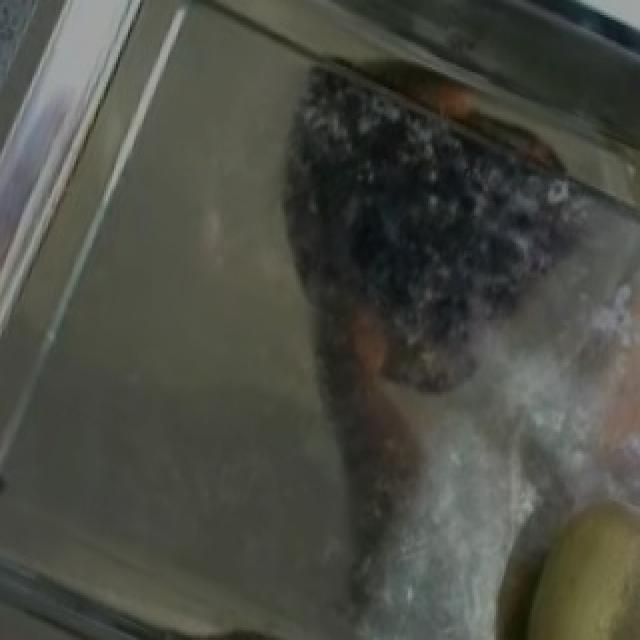Fruit: (472, 469, 640, 640), (580, 231, 640, 518)
